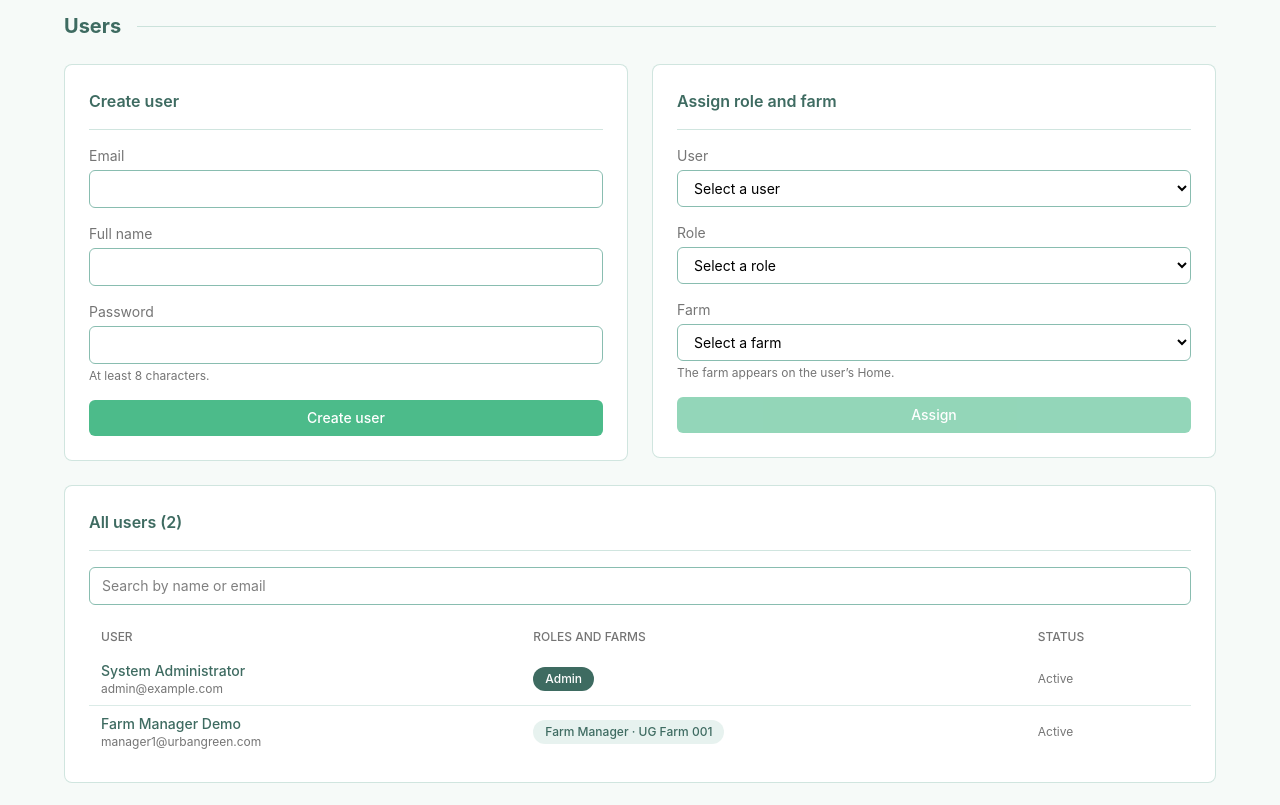
Users › creates a user and preselects them for assignment
Expected: the text "Farm Manager Demo" is shown, 101,715 -> 241,732
Type "new@urbangreen.com" into the field labelled "Email" at (346, 189), box 89,170 -> 603,208
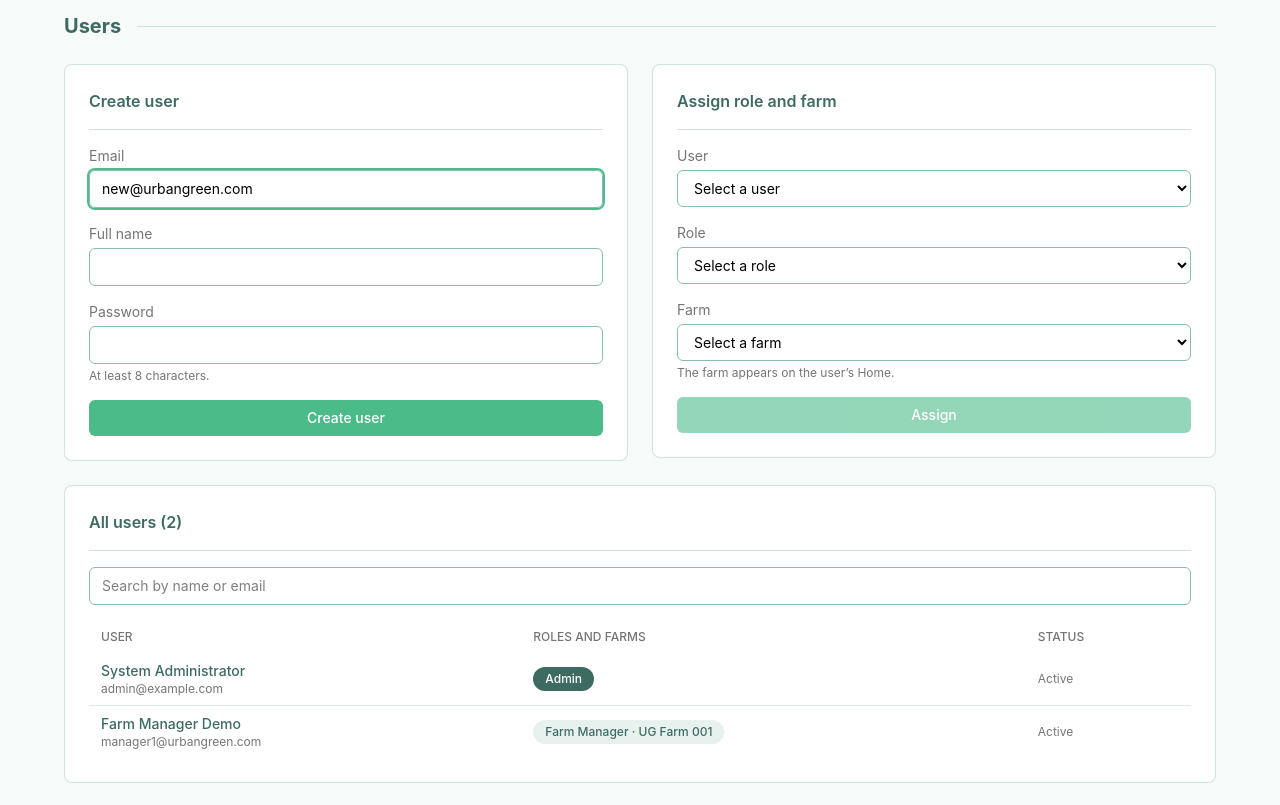
Type "New Manager" into the field labelled "Full name" at (346, 267), box 89,248 -> 603,286
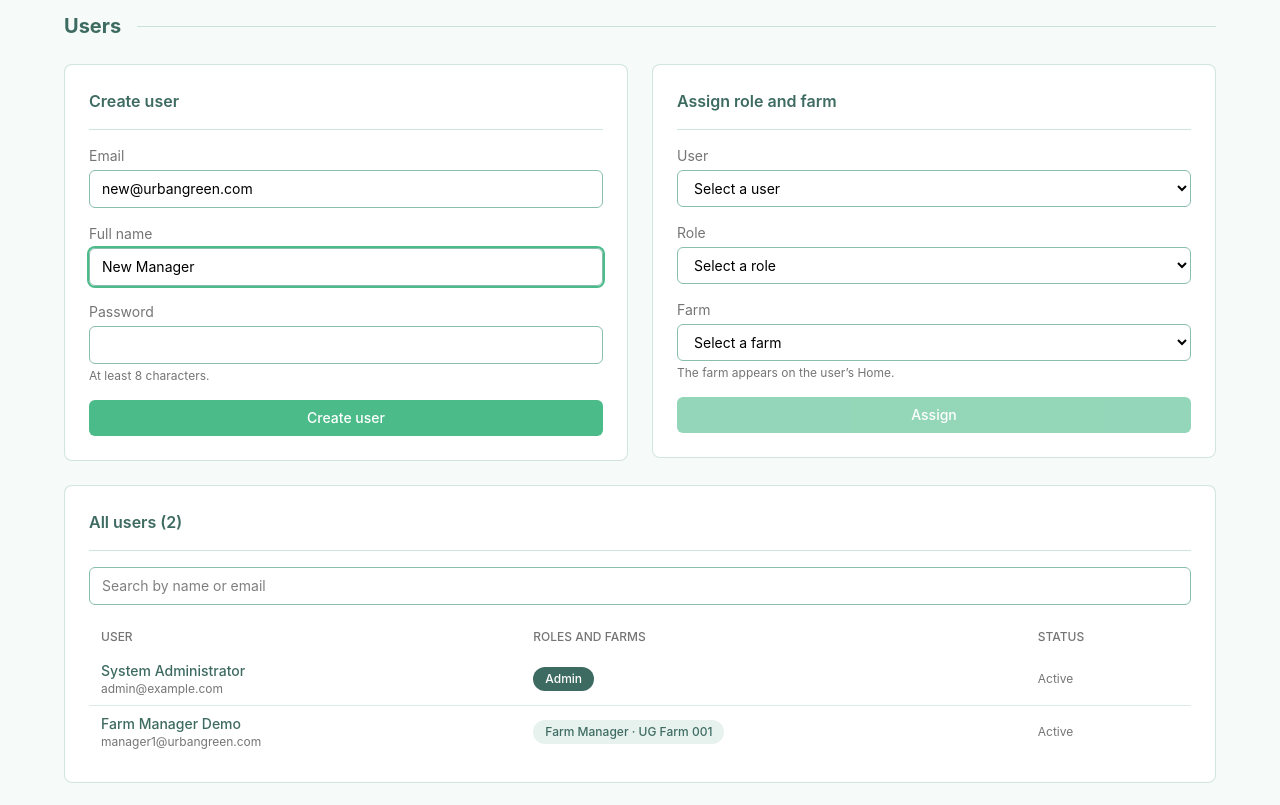
Type "secret123" into the password field labelled "Password" at (346, 345), box 89,326 -> 603,364
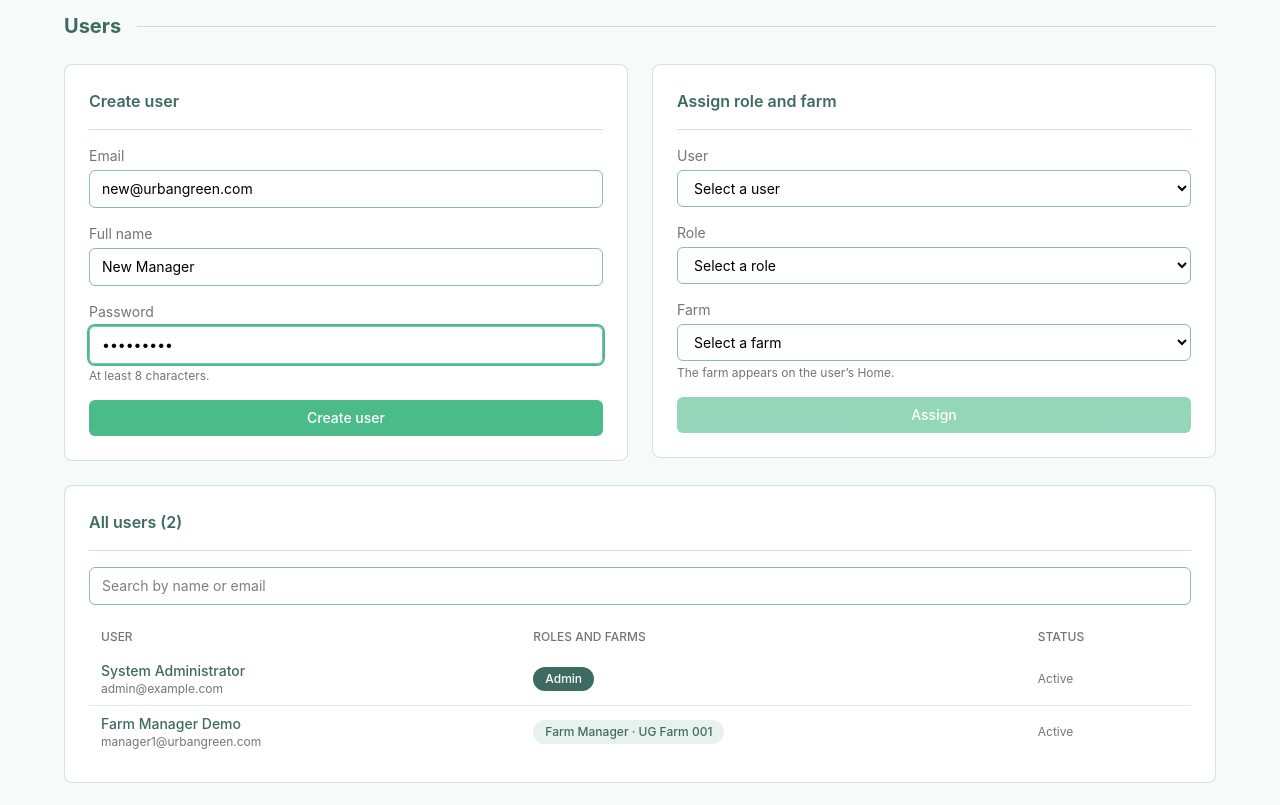
Click the button "Create user" at (346, 418), box 89,400 -> 603,436
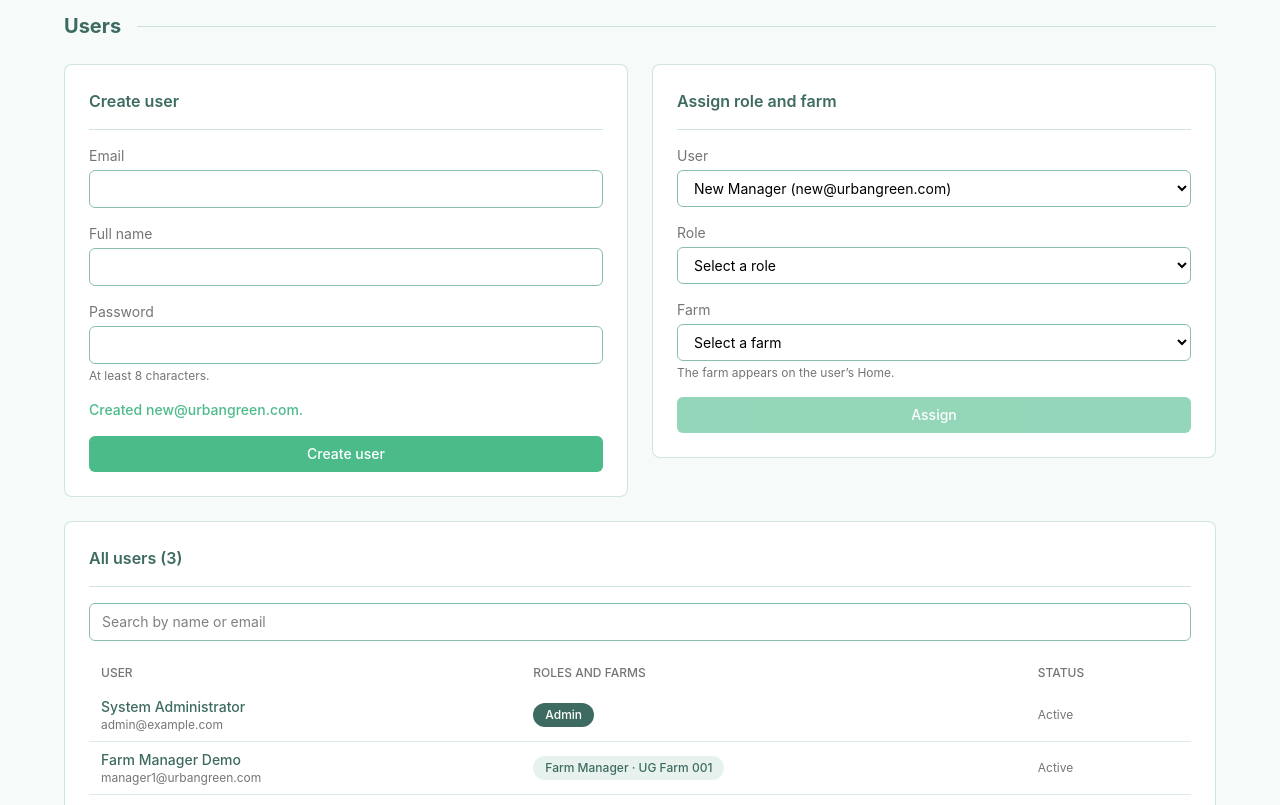
Expected: the dropdown labelled "User" shows "New Manager (new@urbangreen.com)", 677,170 -> 1191,207
